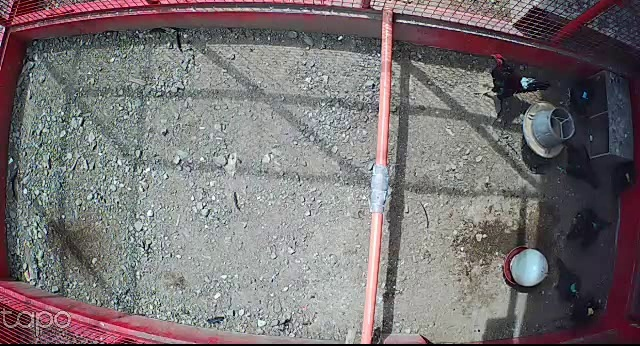Chicken: (555, 140, 602, 190), (563, 208, 613, 251), (565, 75, 603, 116), (551, 256, 583, 302), (566, 295, 606, 329)
Drinker: (502, 246, 549, 290)
Feeder: (523, 98, 574, 162)
Rooster: (484, 49, 550, 110)
Saddle_Color_Blue: (582, 91, 588, 99)
Saddle_Color_Yellow: (587, 307, 594, 315)
